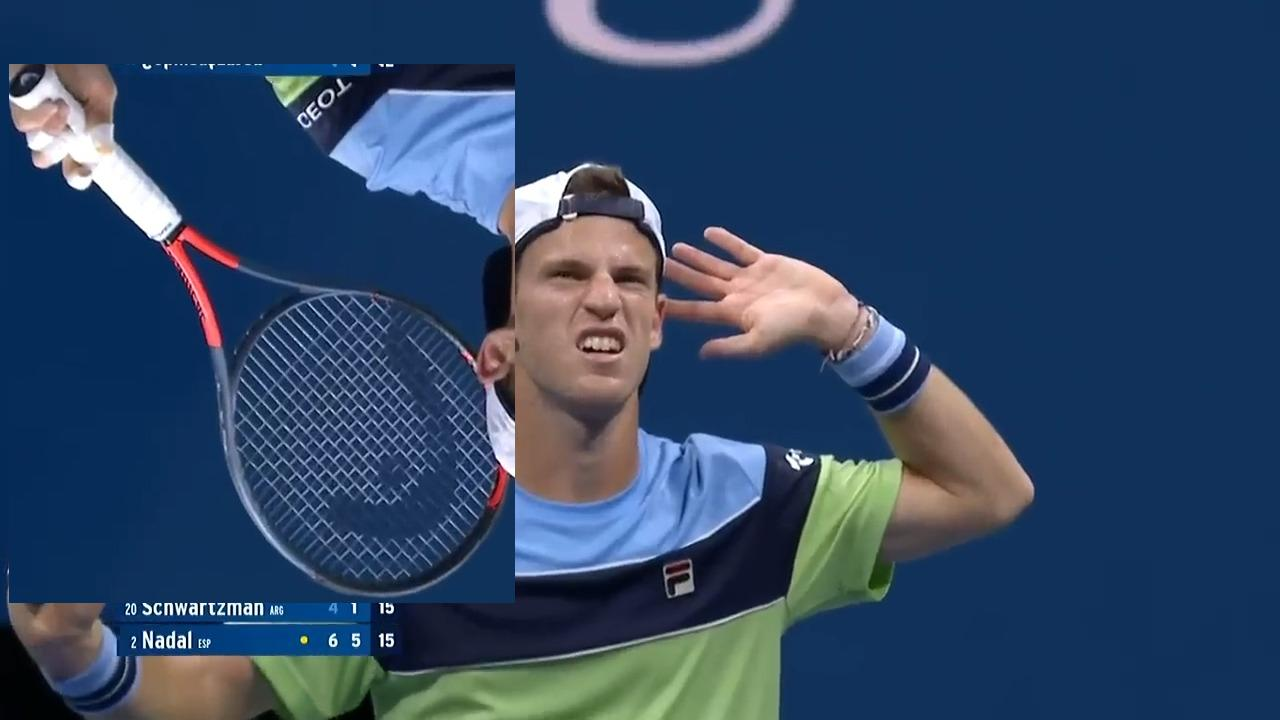tennis racket: (9, 65, 515, 602)
